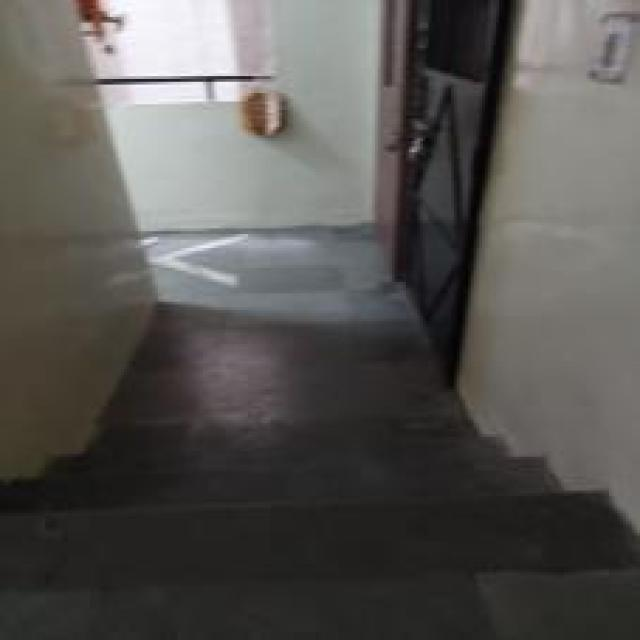stair: (65, 389, 431, 578)
